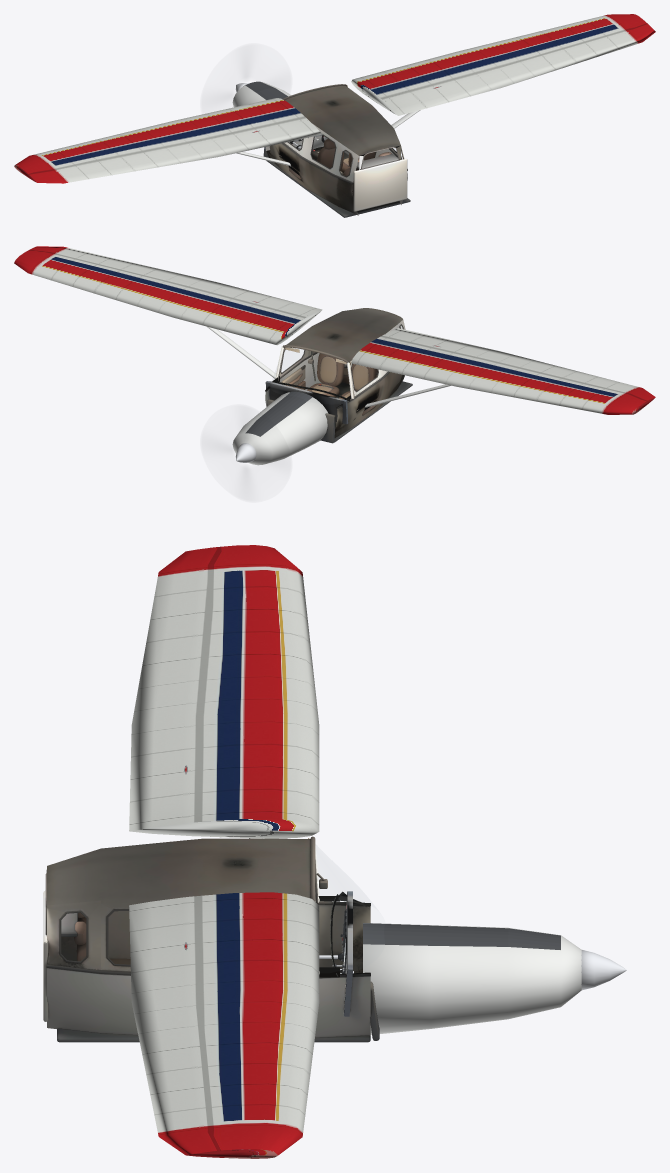
Rendered from c172s_cockpit.glb.
3 views of the same model, one above another, from view 1: azimuth 30°, elevation 25°; view 2: azimuth 150°, elevation 25°; view 3: azimuth 270°, elevation 25° (orthographic). The views are drawn at different scales.
Visible parts, largest first — view 1: CockpitShell, Cabin upholstery and structure; view 2: CockpitShell, Cabin upholstery and structure, PanelStatic; view 3: CockpitShell, Cabin upholstery and structure, PanelStatic.
Part boxes in pixels (x1=…): CockpitShell: x1=14, y1=14, x2=655, y2=183; Cabin upholstery and structure: x1=263, y1=84, x2=410, y2=217; CockpitShell: x1=14, y1=246, x2=655, y2=465; Cabin upholstery and structure: x1=265, y1=308, x2=412, y2=443; PanelStatic: x1=265, y1=381, x2=348, y2=424; CockpitShell: x1=129, y1=545, x2=626, y2=1158; Cabin upholstery and structure: x1=43, y1=836, x2=379, y2=1042; PanelStatic: x1=338, y1=891, x2=352, y2=1016.
Bounding box in the file's own units: 11.12 × 1.96 × 4.54.
18 materials, 9 textured.
